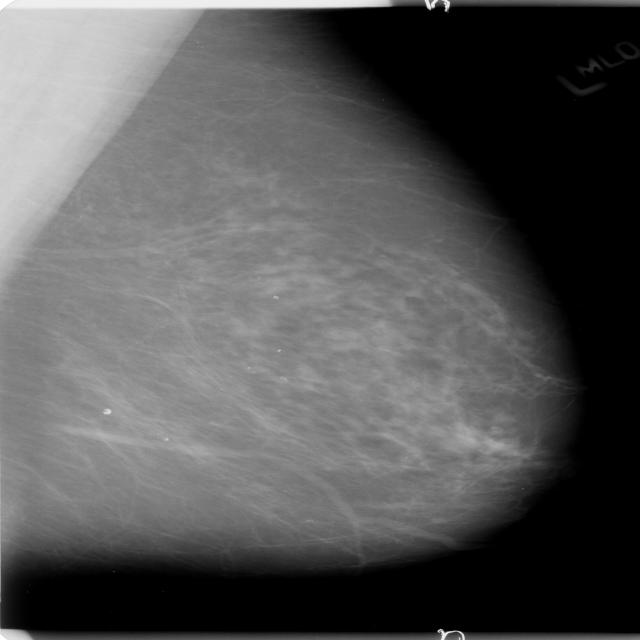normal: (0, 0, 567, 579)
